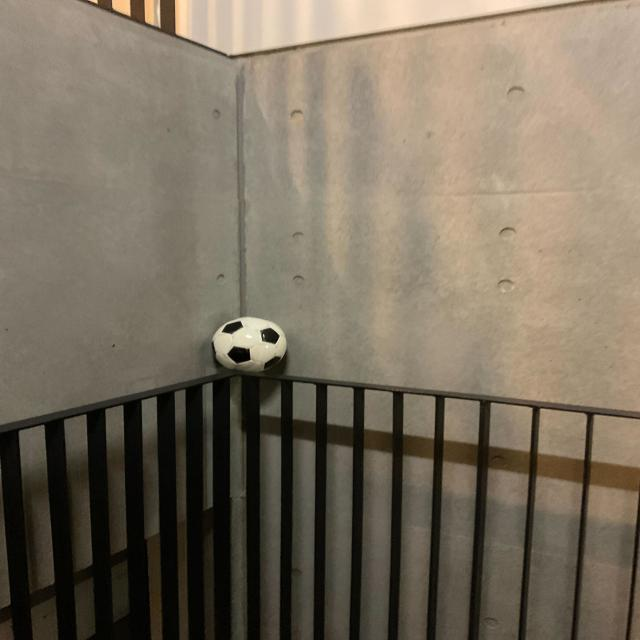ball: (215, 318, 288, 375)
